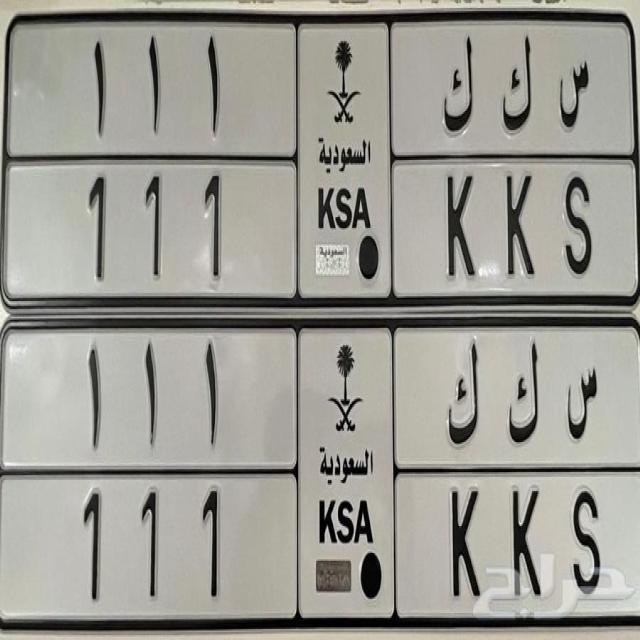license_plate: (64, 482, 621, 612), (76, 172, 611, 286)
